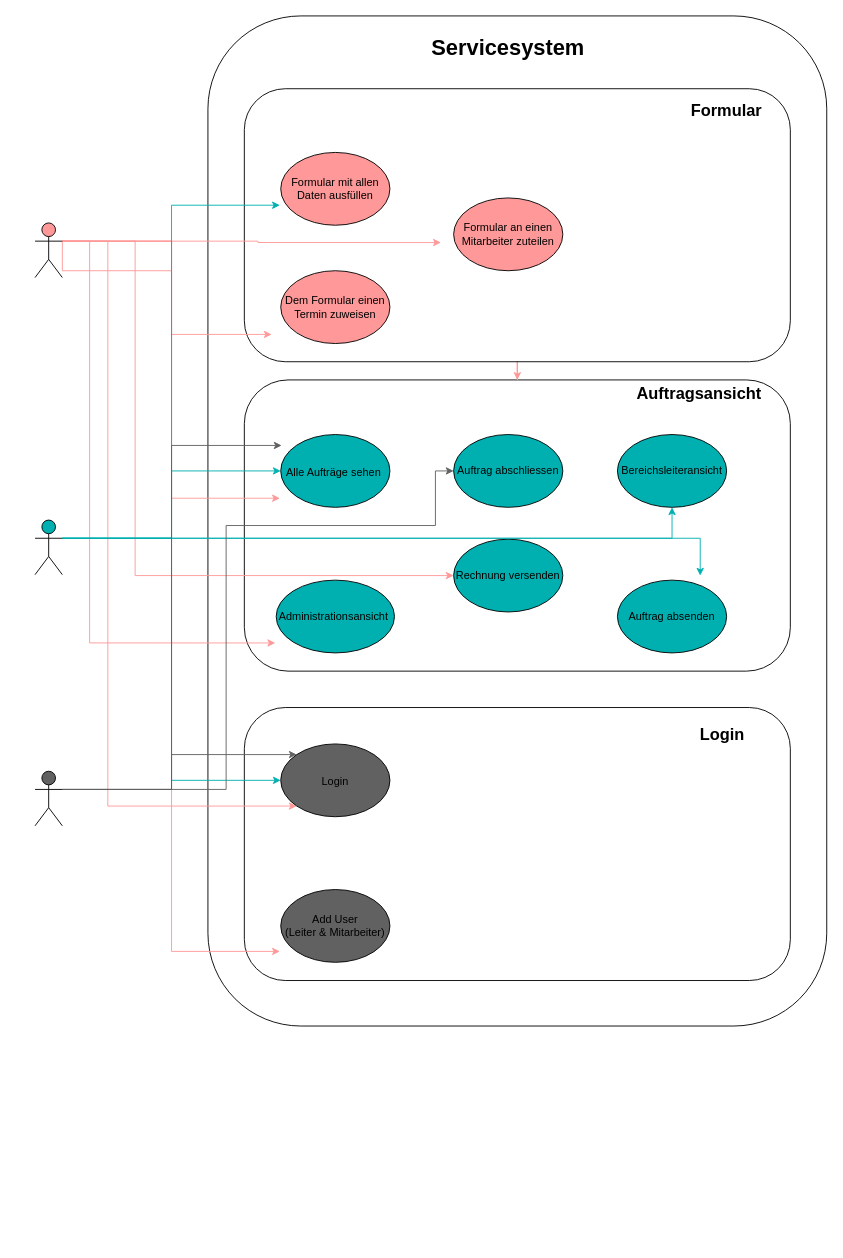
Some shapes in this 843 by 1258 pixel diagram are drawn without their labels. The shapes that lost their labels are listed below. From the top down, each one's centre as x and y in pixels, then its label:
At pixel 48 250: "Administrator".
At pixel 48 547: "Bereichsleiter".
At pixel 48 798: ",Mitarbeiter".
